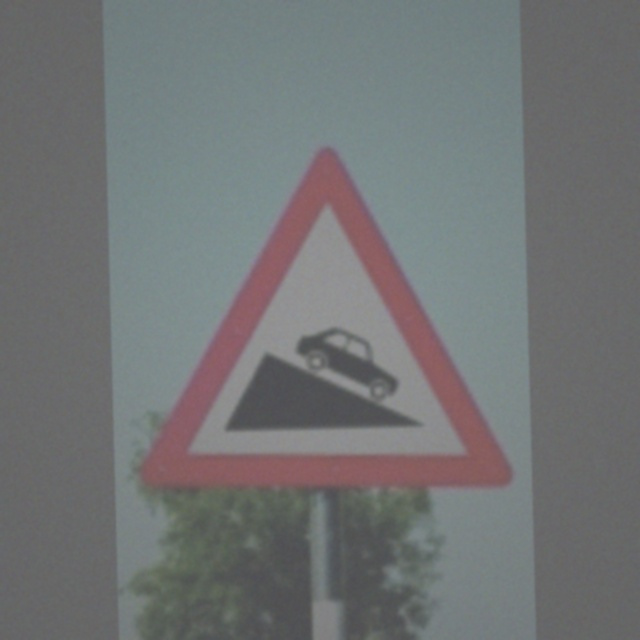Steep_Descent: (144, 149, 499, 499)
